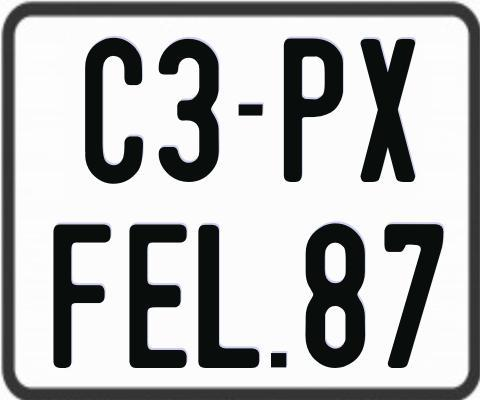3: (156, 39, 217, 185)
7: (381, 221, 441, 365)
8: (305, 220, 368, 368)
C: (82, 35, 144, 182)
E: (129, 221, 188, 370)
F: (51, 222, 113, 372)
L: (197, 223, 261, 372)
P: (282, 38, 342, 183)
X: (360, 37, 420, 186)
